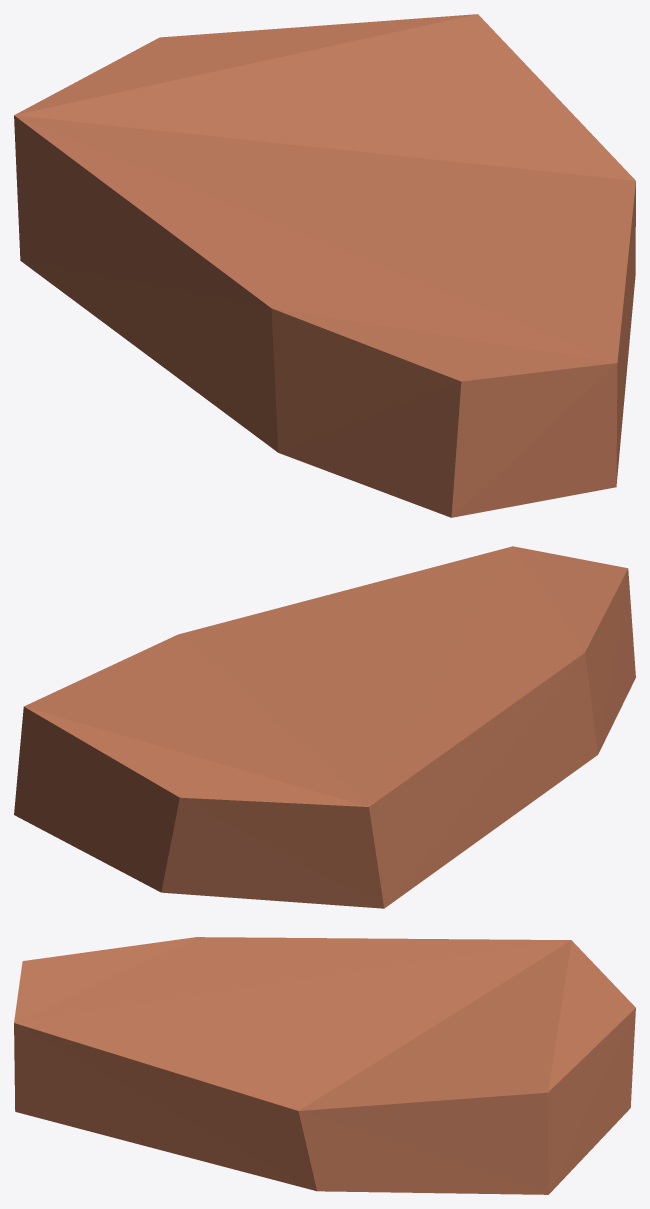
The model's file is west_rock07.FBX.
The picture shows the model from 3 angles, top to bottom: view 1: azimuth 30°, elevation 25°; view 2: azimuth 150°, elevation 25°; view 3: azimuth 270°, elevation 25°; orthographic projection. The views are drawn at different scales.
Visible parts, largest first — view 1: west_rock07; view 2: west_rock07; view 3: west_rock07.
Part boxes in pixels (x1,y1,x2,y2): west_rock07: [14, 14, 635, 517]; west_rock07: [14, 546, 635, 908]; west_rock07: [14, 937, 635, 1194].
Bounding box in the file's own units: 1457 × 420 × 2345.
